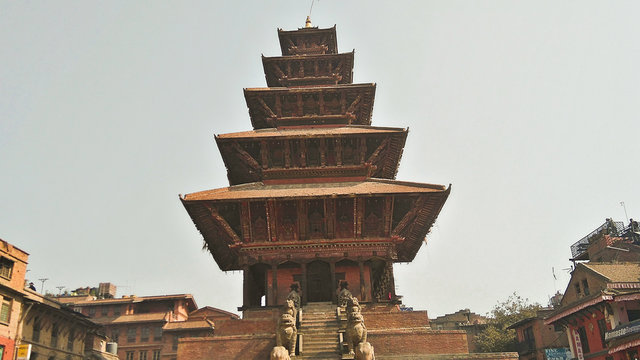nyathapola: (180, 5, 426, 359)
